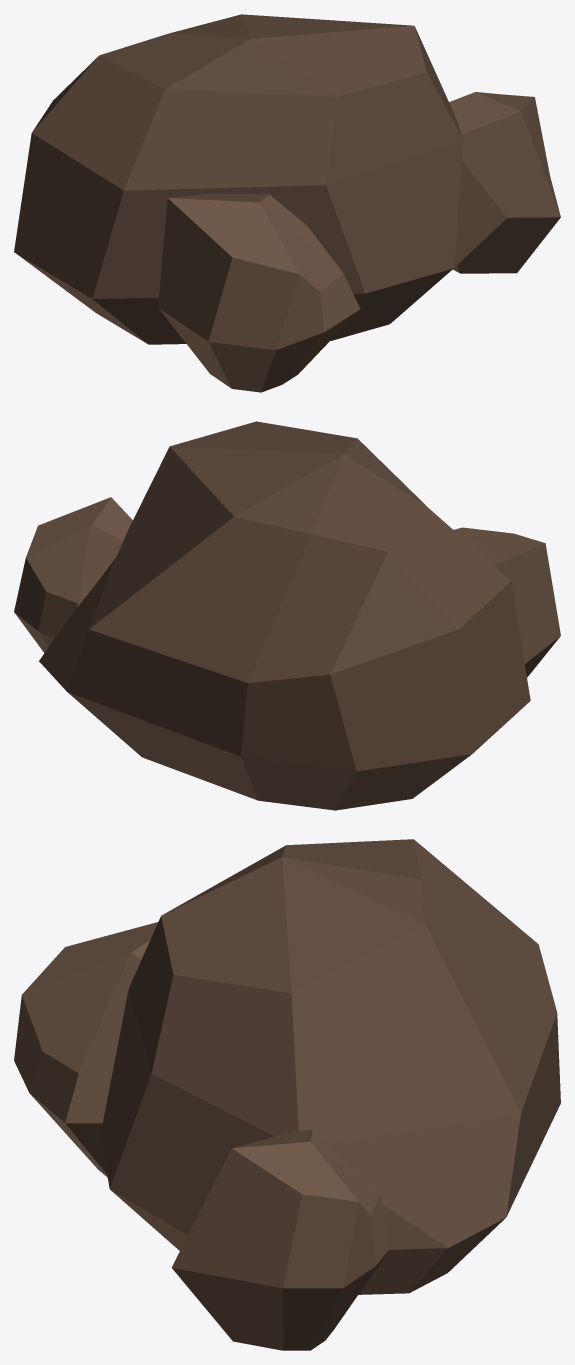
The model's file is rock_3.fbx.
3 views of the same model, one above another, from view 1: azimuth 30°, elevation 25°; view 2: azimuth 150°, elevation 25°; view 3: azimuth 270°, elevation 25° (orthographic). The views are drawn at different scales.
Visible parts, largest first — view 1: rock_3; view 2: rock_3; view 3: rock_3.
Part boxes in pixels (x1,y1,x2,y2): rock_3: (14, 14, 560, 392); rock_3: (14, 421, 560, 810); rock_3: (14, 839, 560, 1350).
Size of the model in its own units: 180 by 100 by 146.
